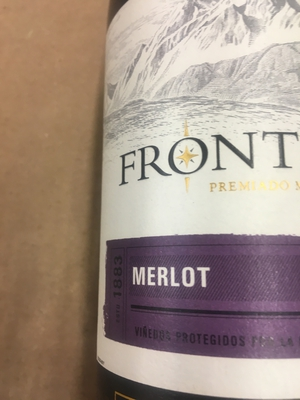frontera merlot: (90, 8, 298, 400)
